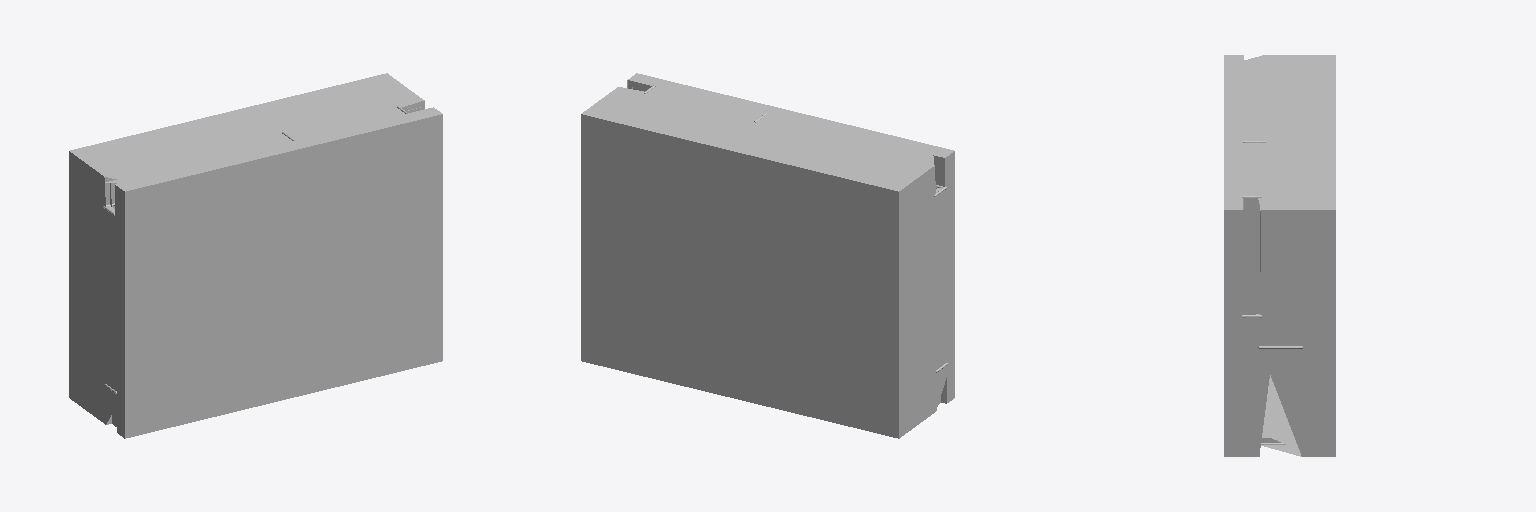
The model's file is KeiferBuild.obj.
3 views of the same model, side by side, from view 1: azimuth 30°, elevation 25°; view 2: azimuth 150°, elevation 25°; view 3: azimuth 270°, elevation 25° (orthographic).
Visible parts, largest first — view 1: OutsideFacade_35; view 2: OutsideFacade_35; view 3: OutsideFacade_35.
Boxes of the visible parts, <box> form: OutsideFacade_35: <box>69,73,442,438</box>; OutsideFacade_35: <box>581,73,954,438</box>; OutsideFacade_35: <box>1224,55,1335,456</box>.
Bounding box in the file's own units: 20.38 × 15.16 × 6.17.